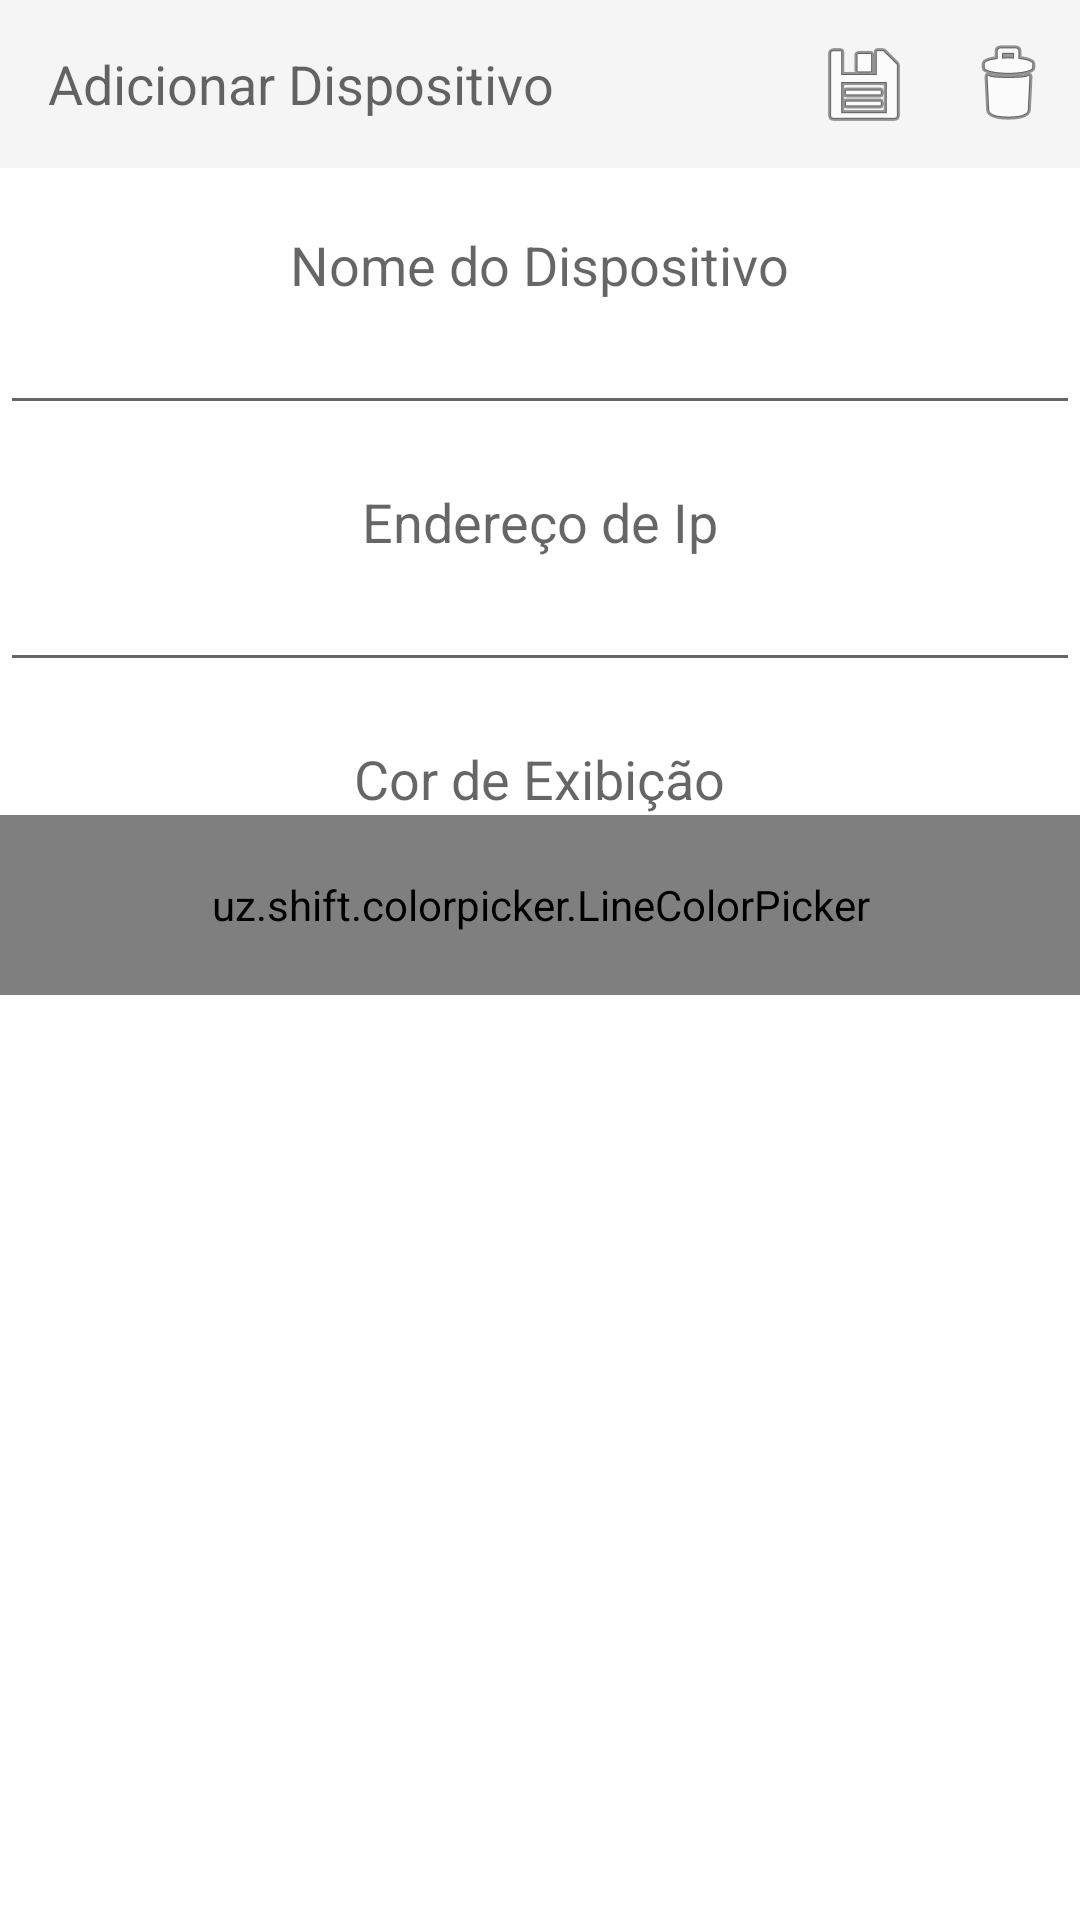

Where to tap for icons on this 1080×1920 app screen, as (x=x, y=y):
delete: (x=1008, y=82)
save: (x=864, y=84)
